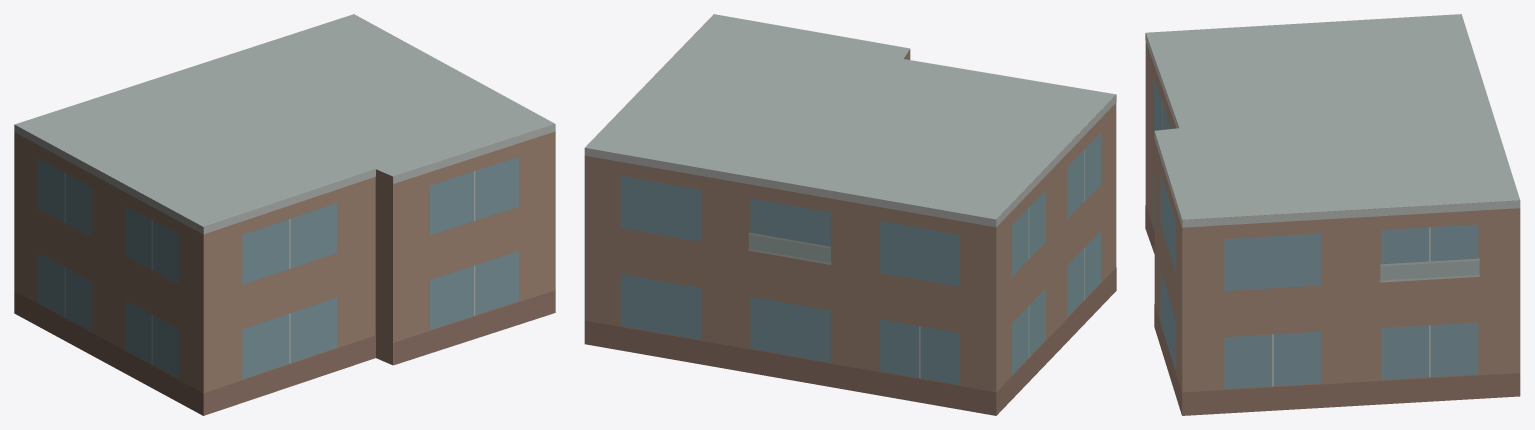
The model's file is survey-upis-32912742.glb.
The picture shows the model from 3 angles, left to right: view 1: azimuth 30°, elevation 25°; view 2: azimuth 150°, elevation 25°; view 3: azimuth 270°, elevation 25°; orthographic projection. The views are drawn at different scales.
Visible parts, largest first — view 1: survey-upis-32912742.tmp; view 2: survey-upis-32912742.tmp; view 3: survey-upis-32912742.tmp.
Boxes of the visible parts, box(x1,y1,x2,y2) form: survey-upis-32912742.tmp: box(14, 14, 555, 415); survey-upis-32912742.tmp: box(584, 14, 1116, 415); survey-upis-32912742.tmp: box(1145, 14, 1520, 415).
Bounding box in the file's own units: 13.75 × 6.1 × 10.58.
